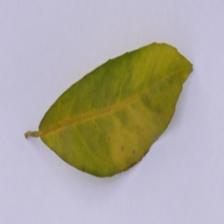greening: (19, 37, 203, 182)
